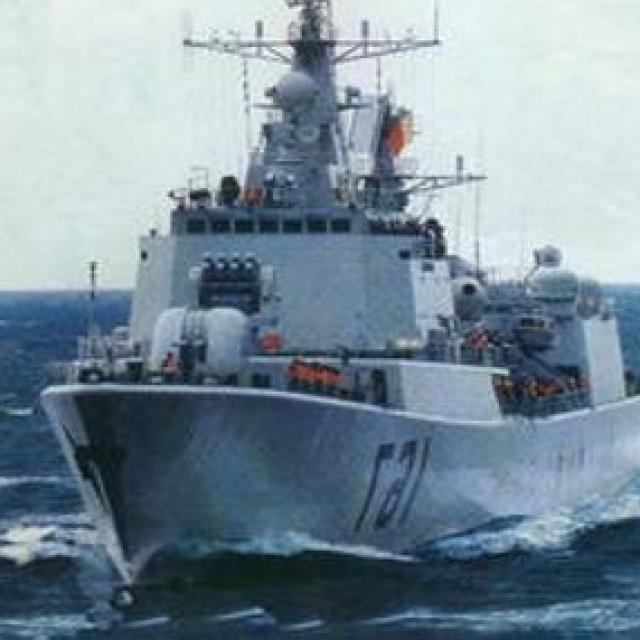navalvessels: (54, 0, 640, 582)
